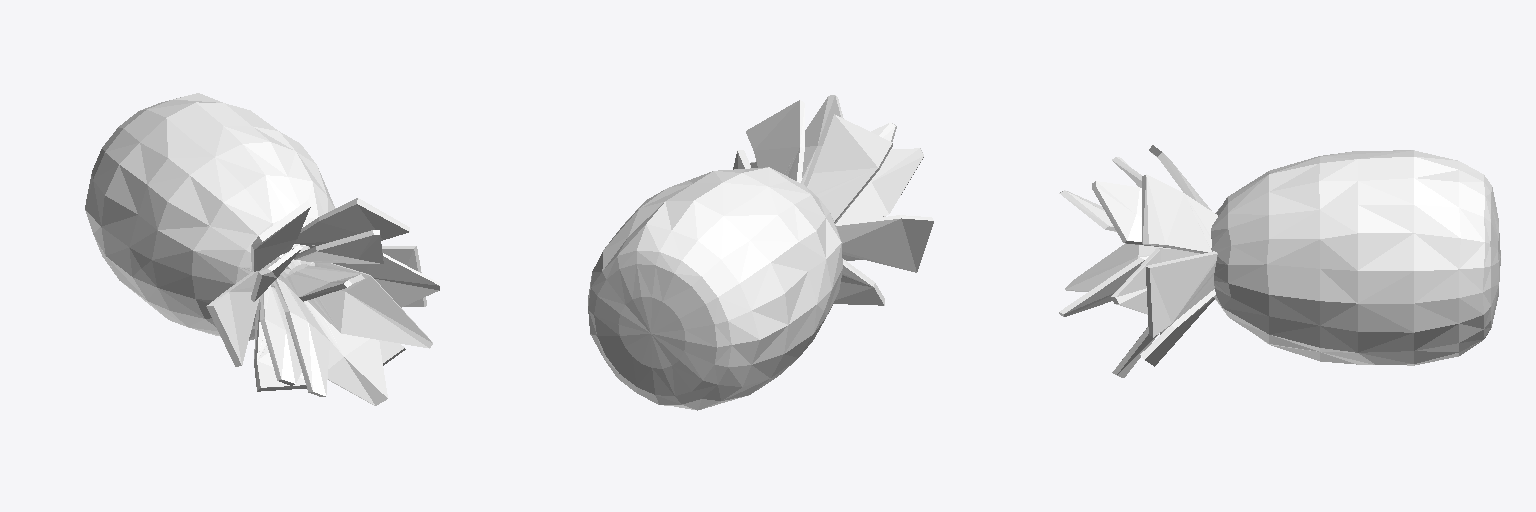
The model's file is fruit.obj.
3 views of the same model, side by side, from view 1: azimuth 30°, elevation 25°; view 2: azimuth 150°, elevation 25°; view 3: azimuth 270°, elevation 25° (orthographic).
Visible parts, largest first — view 1: Object.1; view 2: Object.1; view 3: Object.1.
Part boxes in pixels (x1,y1,x2,y2): Object.1: (85, 93, 439, 405); Object.1: (588, 95, 933, 410); Object.1: (1059, 145, 1500, 377).
Size of the model in its own units: 89.33 by 81.23 by 158.